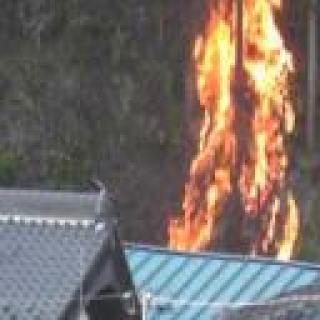fire: (179, 0, 313, 268)
